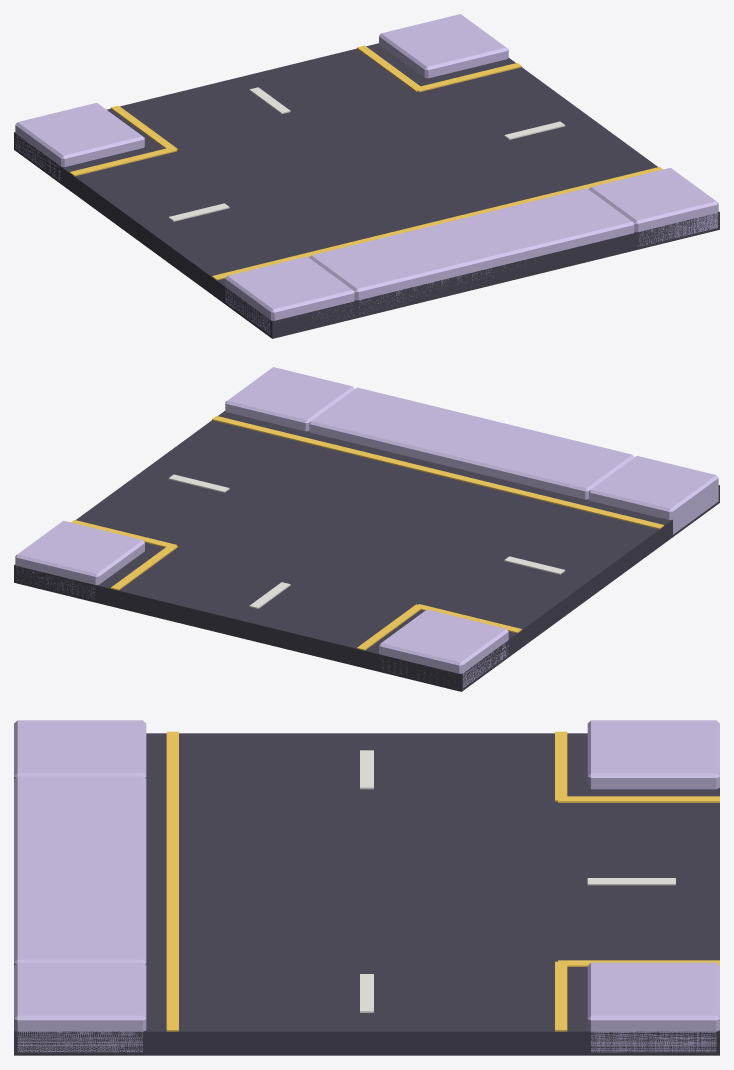
Rendered from road_t.glb.
3 views of the same model, one above another, from view 1: azimuth 30°, elevation 25°; view 2: azimuth 150°, elevation 25°; view 3: azimuth 270°, elevation 25° (orthographic). The views are drawn at different scales.
Visible parts, largest first — view 1: road_t; view 2: road_t; view 3: road_t.
Part boxes in pixels (box(x1,y1,x2,y2)): road_t: box(14, 14, 719, 338); road_t: box(14, 367, 719, 691); road_t: box(14, 720, 719, 1055).
Bounding box in the file's own units: 8 × 0.48 × 8.
